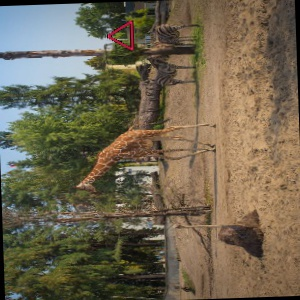triangle: (105, 19, 137, 52)
